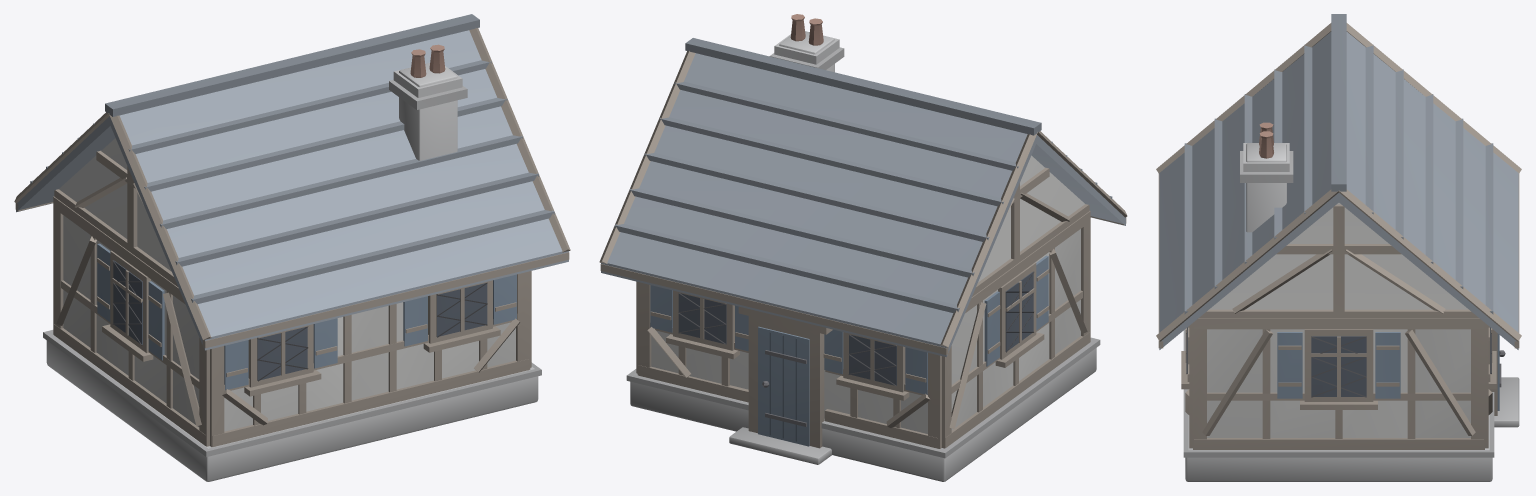
File: cottage_brine.gltf
3 renders of one model, left to right at view 1: azimuth 30°, elevation 25°; view 2: azimuth 150°, elevation 25°; view 3: azimuth 270°, elevation 25°, orthographic. The views are drawn at different scales.
Visible parts, largest first — view 1: Body; view 2: Body; view 3: Body.
Boxes of the visible parts, x1,y1,x2,y2 form: Body: [14, 14, 570, 481]; Body: [599, 14, 1127, 481]; Body: [1156, 14, 1521, 481].
Bounding box in the file's own units: 6.97 × 6.12 × 6.32.
